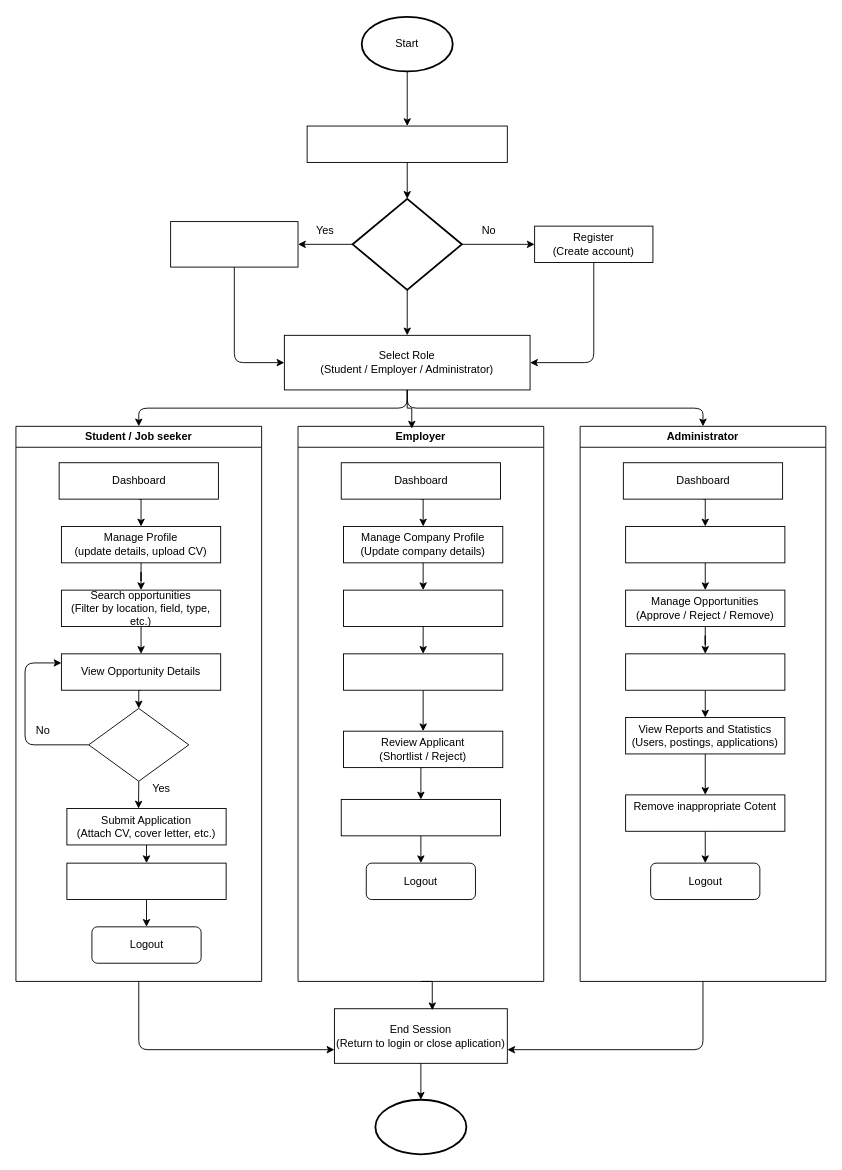
Some shapes in this 842 by 1170 pixel diagram are drawn without their labels. Each missing label, with the centre of its shape:
"Already have an account?" belongs at [406,243].
"Apply for opportunity?" belongs at [138,744].
"End" belongs at [420,1126].
"Launch Application" belongs at [406,143].
"Login (Enter username and password)" belongs at [234,244].
"Manage Users (Students and Employers)" belongs at [705,544].
"Monitor Applications (View all applications)" belongs at [705,671].
"Post Opportunities (job/Internship details)" belongs at [423,608].
"Track Application Status (view progress)" belongs at [146,881].
"Update Application Status" belongs at [420,817].
"View Applicants (Check applications and CVs)" belongs at [423,671].
